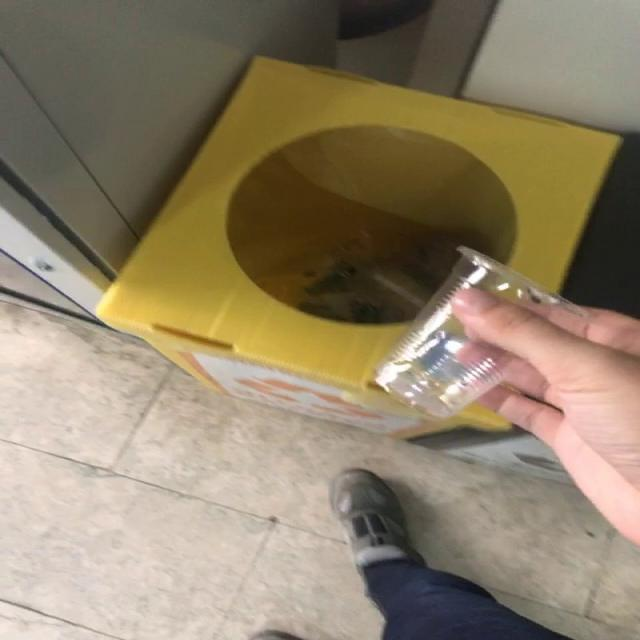plastic: (375, 246, 584, 418)
